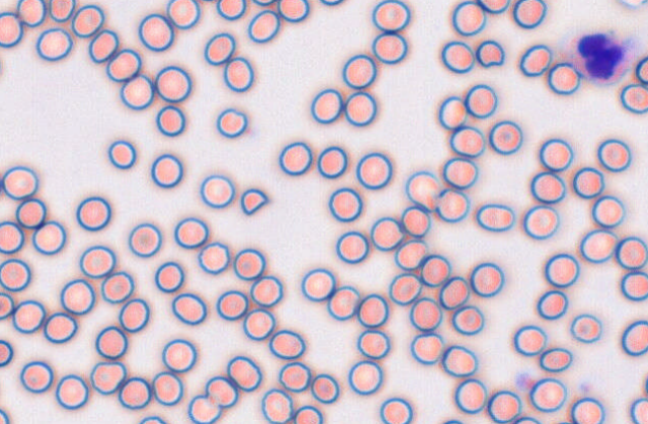GRAN: (566, 29, 636, 85)
PLT: (514, 371, 534, 389), (579, 381, 592, 394)
RBC: (405, 170, 441, 210), (355, 151, 392, 189), (154, 65, 191, 102), (138, 13, 174, 51), (579, 228, 617, 263), (226, 355, 262, 391), (529, 377, 566, 412), (60, 278, 95, 315), (35, 27, 73, 61), (451, 0, 486, 36), (523, 204, 559, 239), (75, 196, 111, 231), (1, 165, 38, 199), (79, 244, 116, 278), (371, 0, 410, 32), (347, 360, 382, 395), (105, 48, 141, 82), (342, 53, 376, 89), (199, 174, 235, 208), (89, 361, 126, 394), (435, 187, 469, 222), (120, 74, 154, 109), (161, 338, 196, 372), (300, 267, 335, 301), (328, 187, 362, 222), (31, 220, 66, 254), (470, 262, 504, 297), (544, 253, 579, 287), (128, 222, 162, 257), (454, 378, 487, 414), (441, 344, 477, 377), (55, 373, 88, 409), (370, 216, 404, 250), (597, 138, 631, 172), (278, 141, 312, 175), (488, 120, 522, 154), (260, 388, 293, 423), (171, 292, 206, 325), (310, 88, 343, 123), (464, 83, 497, 118), (150, 153, 183, 188), (449, 125, 485, 157), (371, 32, 407, 64), (409, 297, 442, 331), (487, 390, 521, 423), (100, 270, 134, 303), (19, 360, 53, 393), (12, 299, 45, 333), (335, 230, 369, 263), (591, 195, 625, 228), (441, 40, 475, 73), (539, 138, 573, 171), (327, 285, 359, 320), (442, 157, 477, 189), (344, 91, 376, 126), (530, 171, 565, 203), (173, 216, 208, 248), (223, 56, 254, 92), (268, 329, 305, 359), (476, 202, 514, 231), (388, 272, 421, 305), (71, 4, 104, 37), (118, 376, 151, 409), (247, 9, 280, 42), (197, 241, 230, 274), (204, 375, 238, 407), (357, 293, 389, 327), (151, 371, 183, 405), (513, 324, 547, 356), (95, 325, 127, 359), (249, 275, 283, 307), (410, 332, 443, 364), (242, 308, 275, 340), (615, 236, 647, 269), (203, 32, 235, 65), (547, 62, 580, 94), (519, 44, 552, 76), (118, 298, 149, 332), (43, 312, 77, 343), (572, 166, 604, 198), (233, 248, 265, 280), (394, 239, 427, 270), (0, 258, 31, 291), (451, 304, 484, 335), (278, 361, 311, 392), (215, 289, 248, 320), (88, 29, 118, 63), (356, 329, 390, 359), (621, 319, 648, 356), (419, 254, 450, 286), (439, 276, 469, 309), (317, 145, 347, 178), (187, 394, 221, 423), (438, 95, 467, 129), (166, 0, 200, 29), (512, 0, 547, 28), (216, 107, 247, 138), (536, 289, 568, 319), (570, 313, 602, 343), (15, 198, 46, 228), (154, 261, 184, 292), (155, 105, 185, 136), (401, 205, 430, 237), (379, 397, 412, 424), (570, 397, 604, 423), (310, 373, 339, 403), (107, 139, 136, 169), (620, 270, 648, 301), (620, 83, 648, 113), (0, 11, 23, 47), (539, 347, 572, 372), (0, 220, 24, 254), (475, 39, 504, 67), (16, 0, 46, 27), (277, 0, 309, 22), (216, 0, 246, 20), (48, 0, 75, 22), (293, 405, 323, 423), (630, 397, 648, 423), (477, 0, 510, 13), (0, 291, 14, 319), (635, 55, 648, 84), (0, 339, 13, 367), (137, 415, 167, 424), (615, 0, 647, 8), (512, 416, 541, 423), (251, 0, 276, 6), (440, 418, 463, 424), (0, 408, 9, 423), (318, 0, 344, 5), (0, 170, 4, 198), (549, 420, 573, 424), (644, 372, 648, 396), (0, 53, 3, 79), (195, 0, 218, 3)
Schistocyte: (238, 189, 271, 216)
